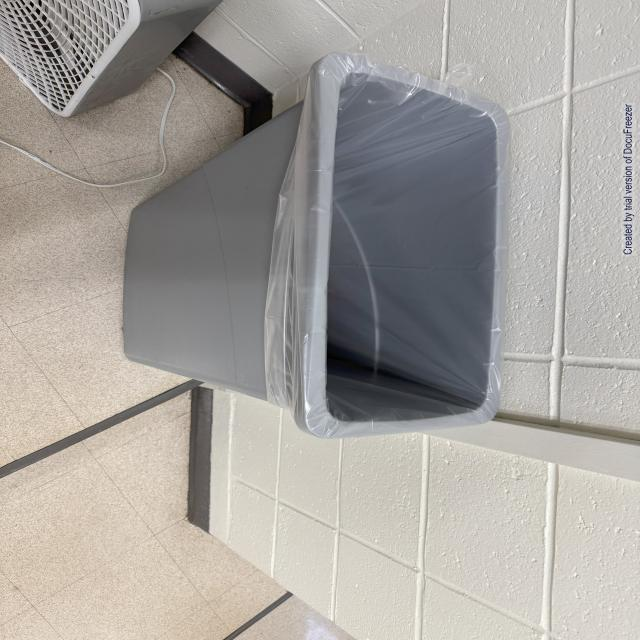Trash bin: (76, 46, 522, 448)
